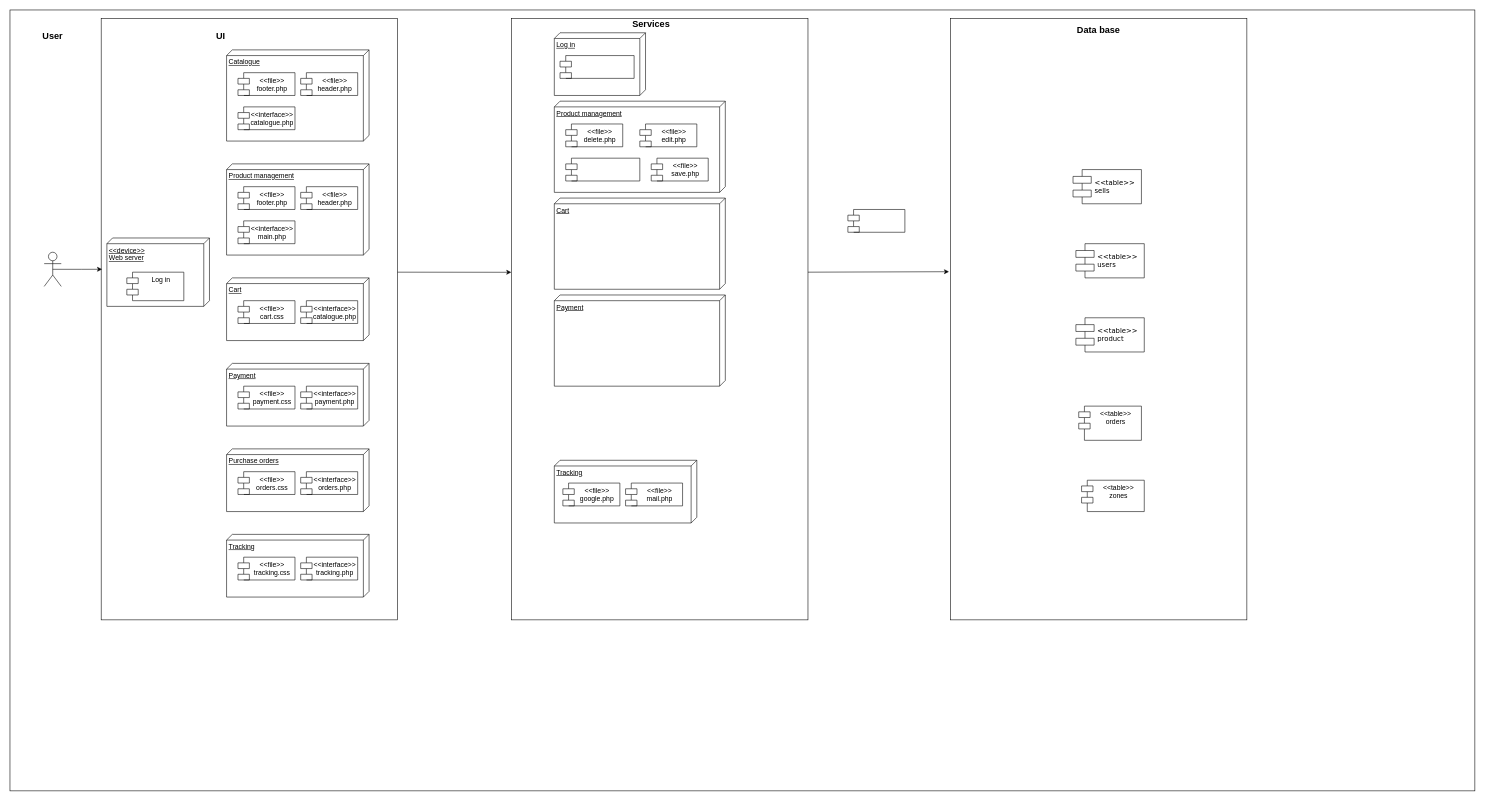
Image size: 1485x801. Some labels were removed from this diagram. Each missing label, with the centre of its shape:
<<file>> connection.php: (x=876, y=220)
<<file>> verify.php: (x=596, y=66)
<<interface>> logicalDelete.php: (x=602, y=169)
Actor: (x=52, y=269)
